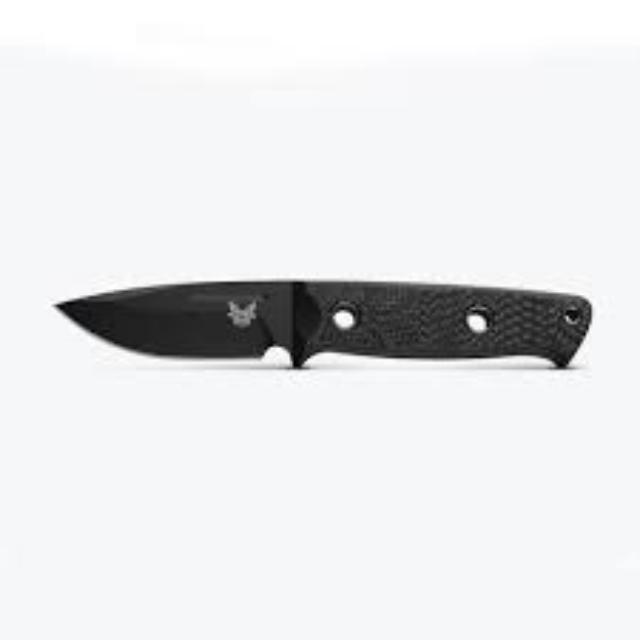Knife: (51, 276, 591, 369)
